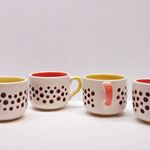cups: (28, 69, 83, 111), (82, 72, 130, 118), (1, 74, 29, 124), (131, 76, 150, 125)
